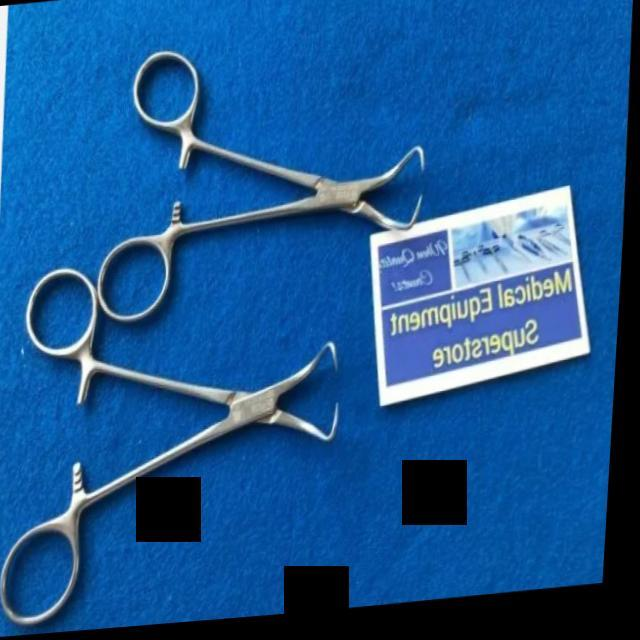Backhaus Towel Clamp: (0, 246, 361, 634), (98, 26, 440, 327)
